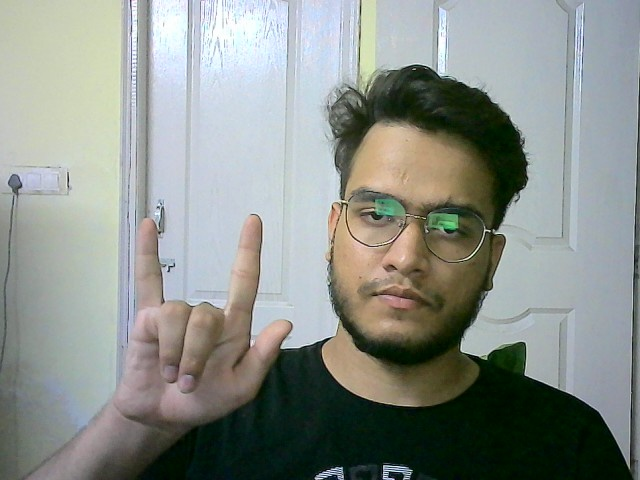I Love You: (115, 208, 294, 432)
